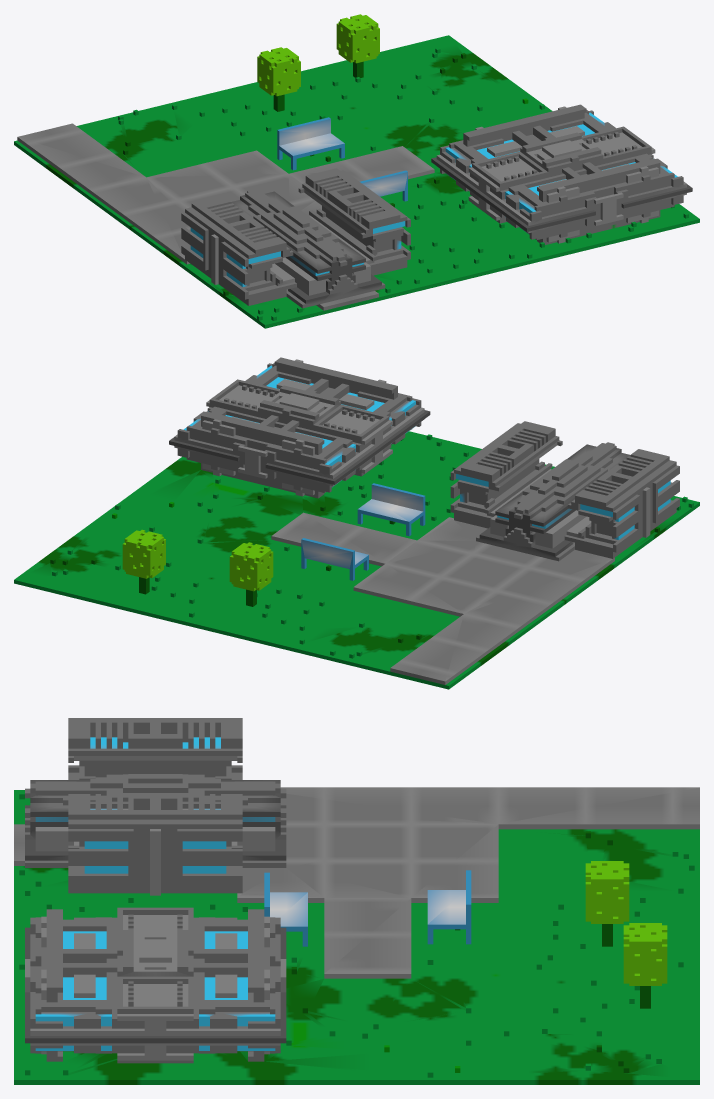
Rendered from scene_allien.dae.
3 renders of one model, top to bottom at view 1: azimuth 30°, elevation 25°; view 2: azimuth 150°, elevation 25°; view 3: azimuth 270°, elevation 25°, orthographic. The views are drawn at different scales.
Visible parts, largest first — view 1: scene_allien; view 2: scene_allien; view 3: scene_allien.
Boxes of the visible parts, <box> form: scene_allien: <box>14,14,699,328</box>; scene_allien: <box>14,357,699,689</box>; scene_allien: <box>14,718,699,1084</box>.
Size of the model in its own units: 12.6 by 12.6 by 1.7.
